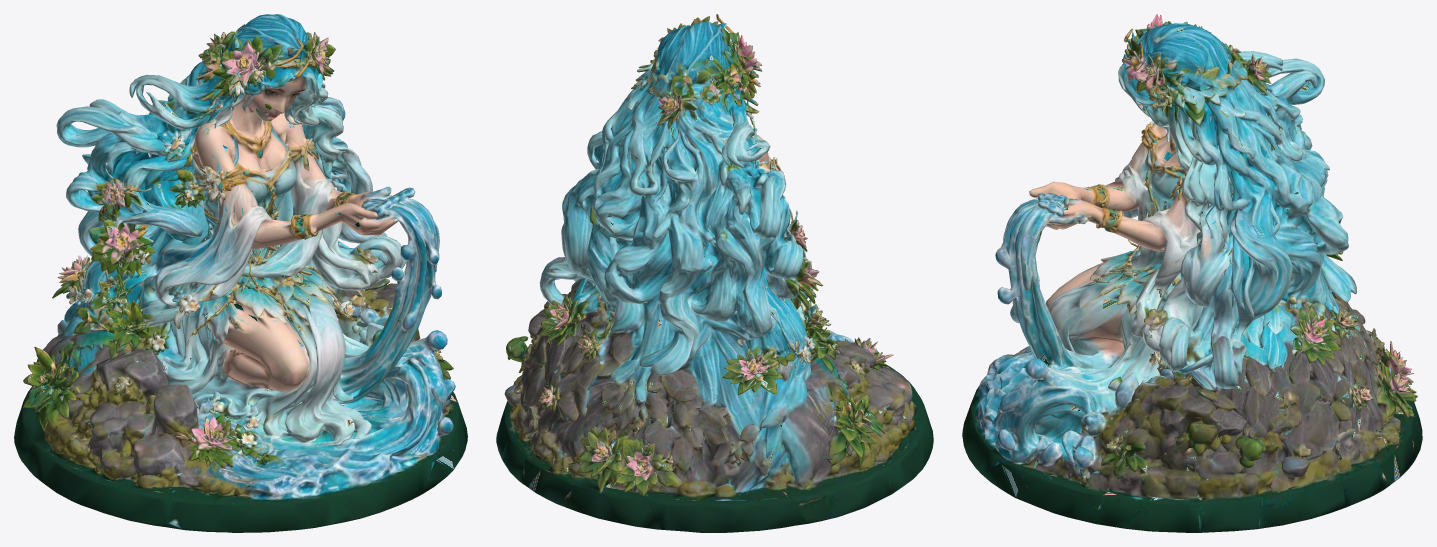
The model's file is nymph.glb.
3 views of the same model, side by side, from view 1: azimuth 30°, elevation 25°; view 2: azimuth 150°, elevation 25°; view 3: azimuth 270°, elevation 25° (orthographic). The views are drawn at different scales.
Size of the model in its own units: 1.86 by 1.9 by 1.86.
Materials: 1 (1 with a texture image).
